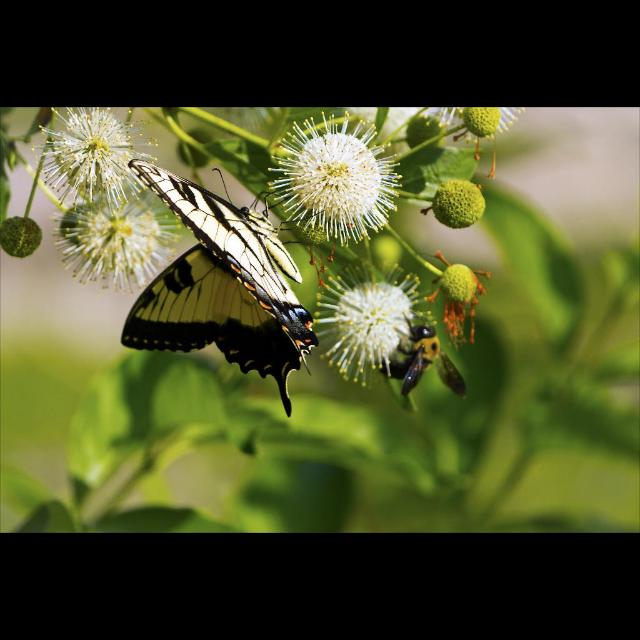Flower: (264, 115, 406, 248), (310, 250, 436, 386), (26, 107, 156, 221), (47, 188, 181, 298), (417, 108, 521, 146)
